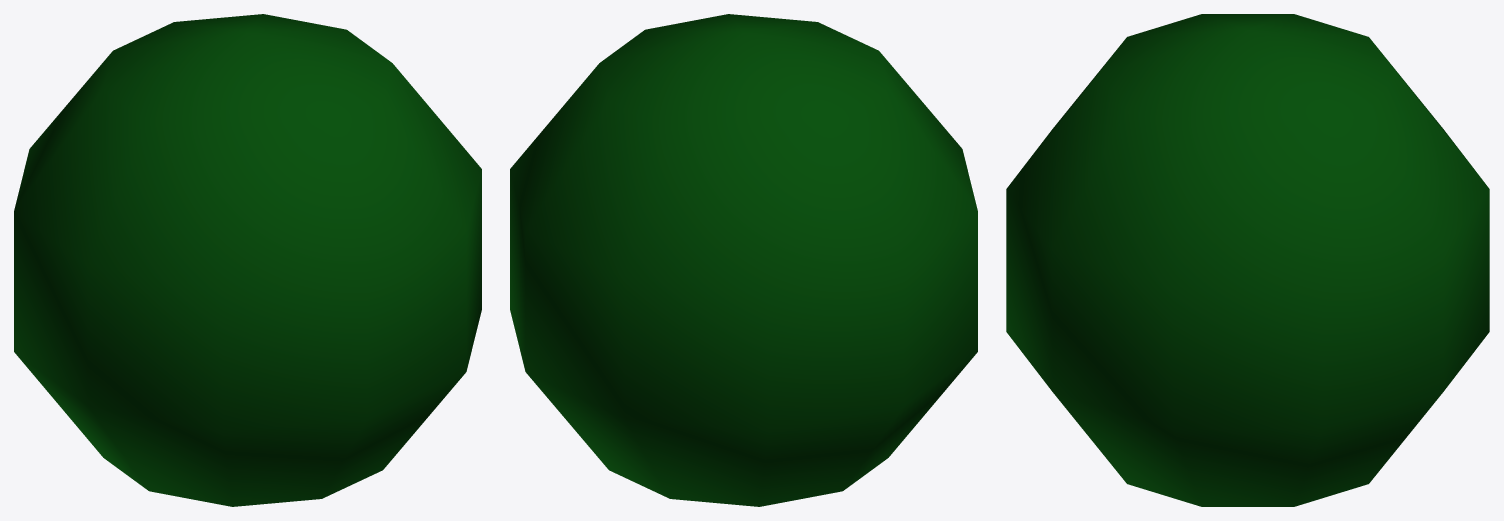
Rendered from Player3.FBX.
3 renders of one model, left to right at view 1: azimuth 30°, elevation 25°; view 2: azimuth 150°, elevation 25°; view 3: azimuth 270°, elevation 25°, orthographic.
Visible parts, largest first — view 1: Sphere001; view 2: Sphere001; view 3: Sphere001.
Part boxes in pixels (x1,y1,x2,y2): Sphere001: [14, 14, 481, 506]; Sphere001: [510, 14, 977, 506]; Sphere001: [1006, 14, 1489, 506].
Size of the model in its own units: 0.9045 by 1 by 0.9511.
